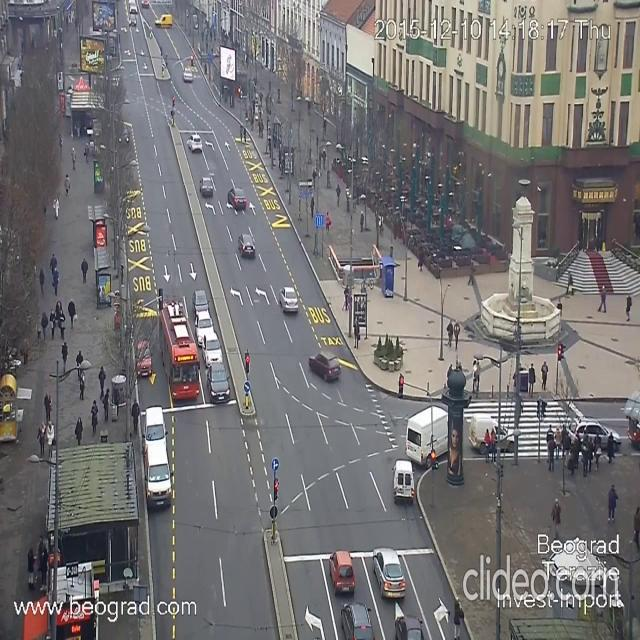bus: (158, 296, 200, 401), (405, 404, 448, 468)
car: (469, 412, 514, 452), (372, 547, 406, 599), (570, 419, 626, 447), (147, 452, 173, 509), (340, 602, 375, 639), (143, 409, 167, 462), (329, 550, 355, 595), (308, 352, 341, 382), (396, 462, 414, 505), (208, 363, 228, 401), (398, 610, 423, 640), (629, 395, 640, 449), (279, 285, 298, 314), (194, 314, 210, 344), (204, 335, 222, 361), (227, 187, 247, 210), (137, 341, 149, 375), (238, 233, 255, 256), (195, 287, 208, 313), (187, 132, 203, 153), (199, 176, 213, 196), (156, 13, 174, 27), (183, 66, 193, 82), (128, 0, 138, 12), (129, 14, 135, 23)
